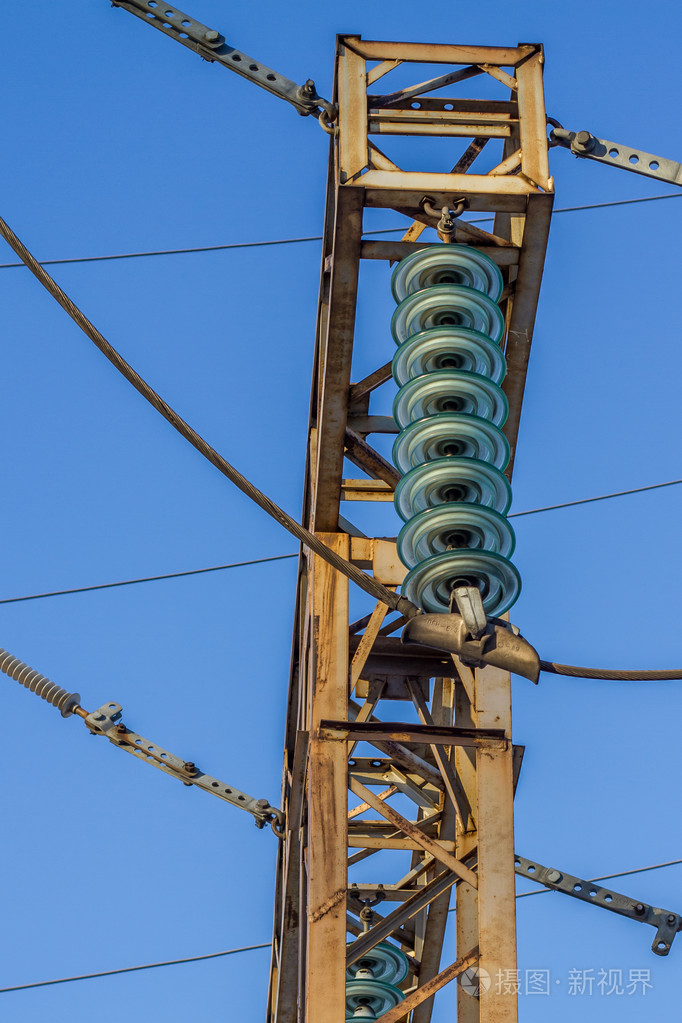insulator: (385, 245, 528, 618), (341, 939, 405, 1019)
